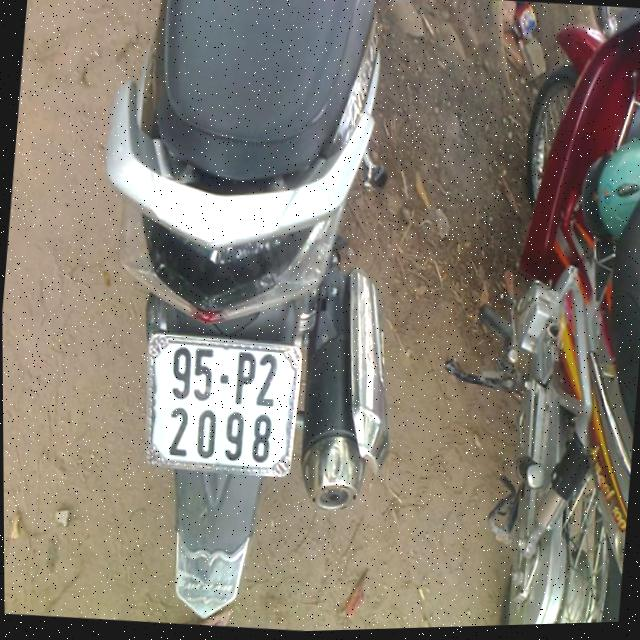motorcycle: (55, 0, 435, 638), (429, 0, 640, 627)
plate: (136, 322, 306, 485)
